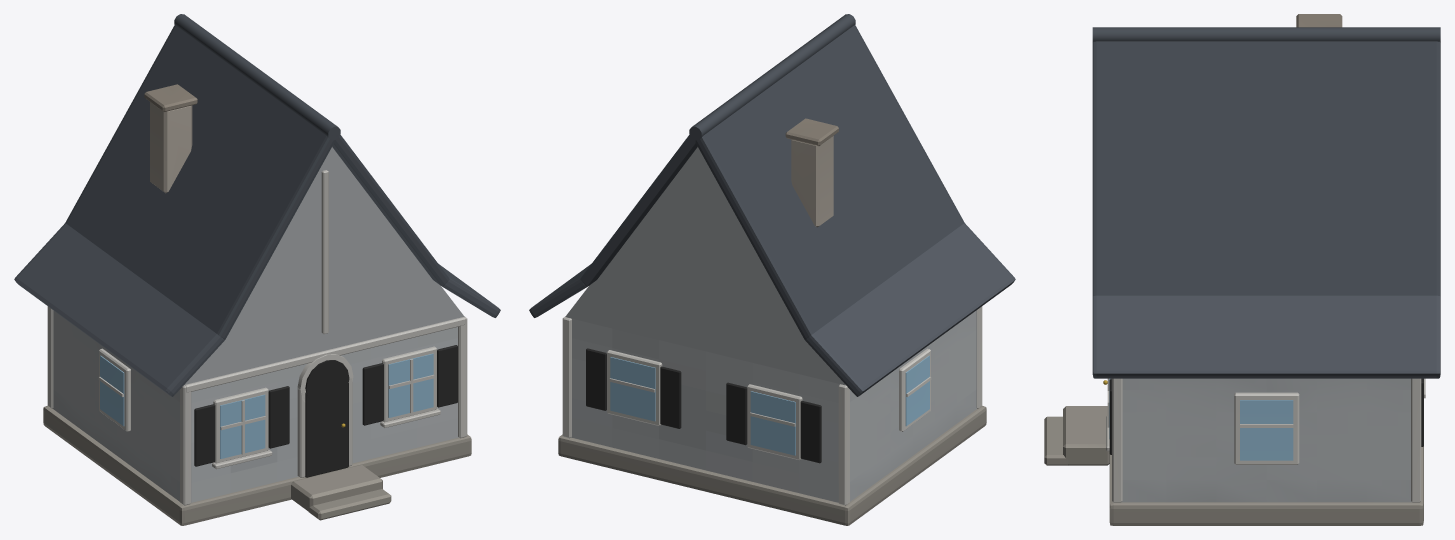
File: cottage-2.glb
3 views of the same model, side by side, from view 1: azimuth 30°, elevation 25°; view 2: azimuth 150°, elevation 25°; view 3: azimuth 270°, elevation 25° (orthographic). The views are drawn at different scales.
Visible parts, largest first — view 1: cottage-2; view 2: cottage-2; view 3: cottage-2.
Part boxes in pixels (left/top/right/bottom): cottage-2: left=14, top=14, right=500, bottom=525; cottage-2: left=529, top=14, right=1015, bottom=525; cottage-2: left=1044, top=14, right=1440, bottom=525.
Bounding box in the file's own units: 8.2 × 8.68 × 7.45.
